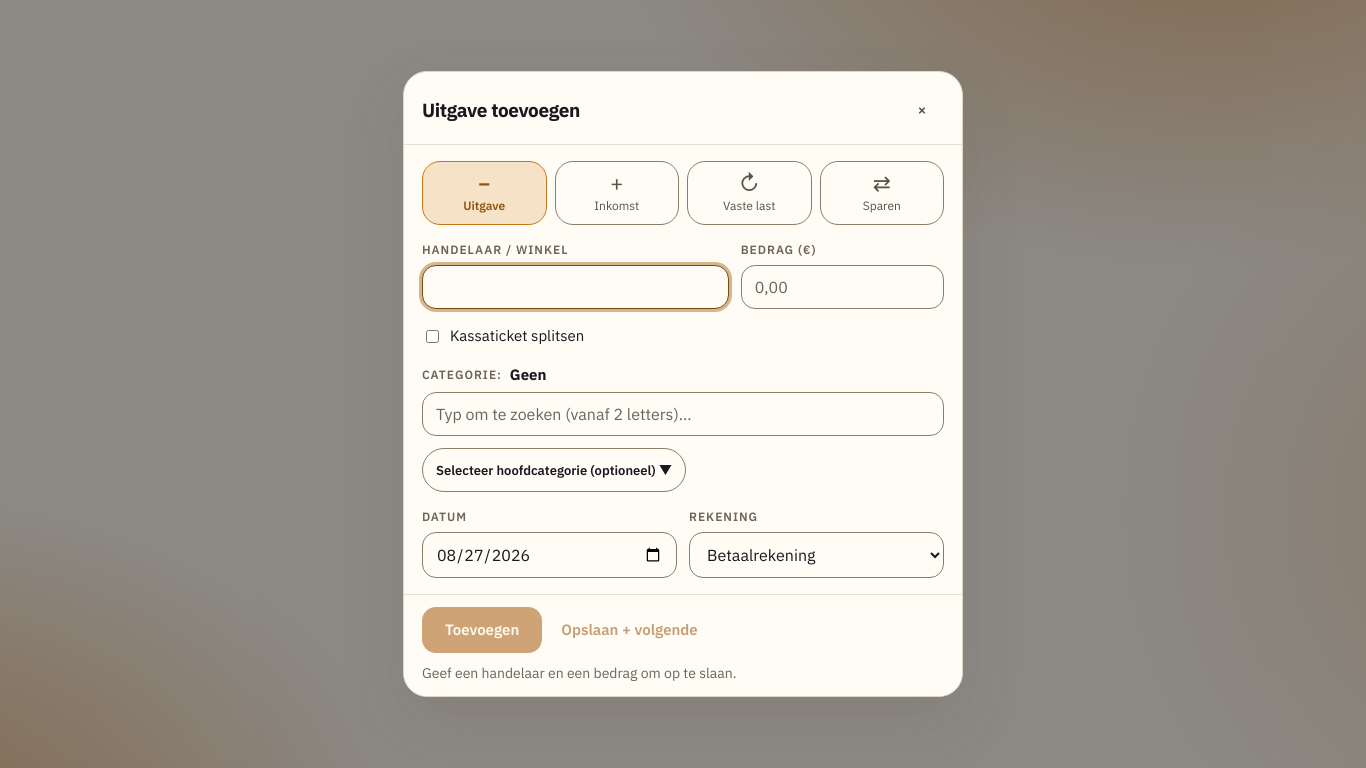
Test: BoekingDialoog › houdt onder "Vaste last" de bolletjes wél, en de knop volgt ze (ronde 83)
Click the button "↻ Vaste last" at (749,193), box [687,161,812,225]
(page scrolled)
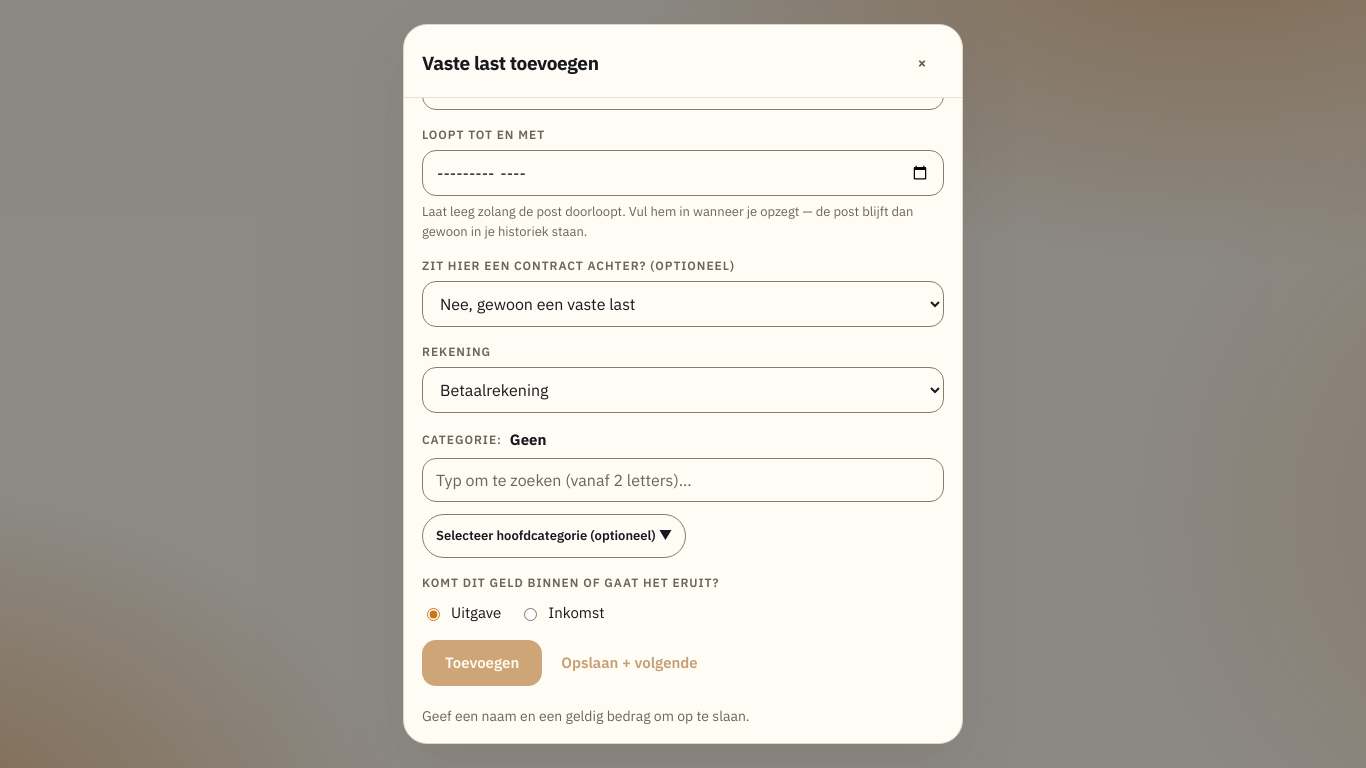
Expected: the form named "Nieuwe vaste last" is shown, [422,98,944,727]
Click the radio button labelled "Inkomst" at (531,614), box [524,608,537,621]
(page scrolled)
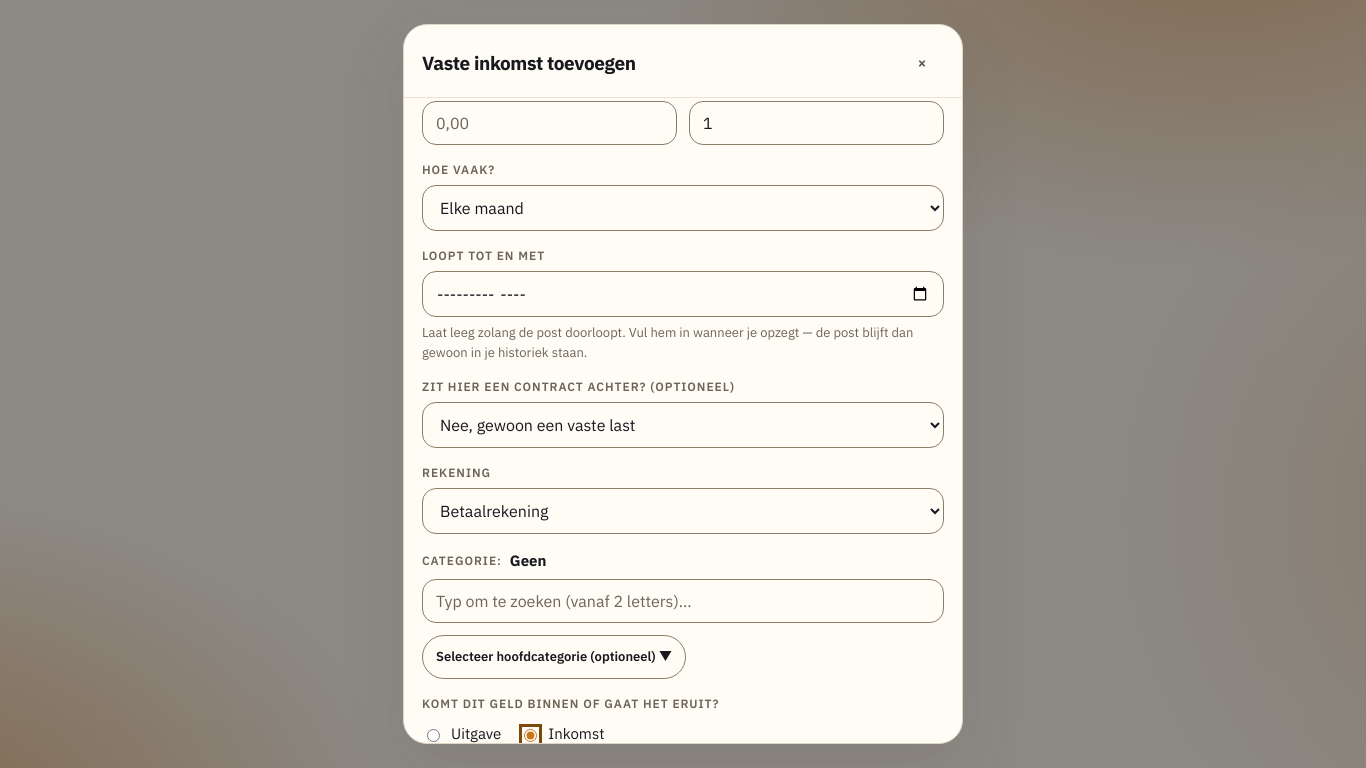
Expected: the form named "Nieuwe vaste inkomst" is shown, [422,98,944,743]
